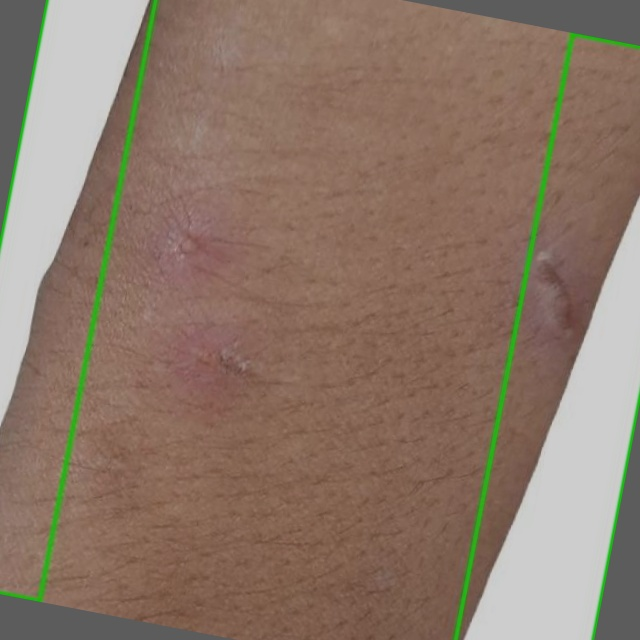Scabies: (455, 33, 639, 639), (0, 0, 155, 600)
